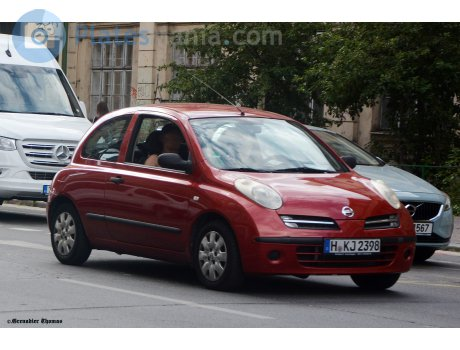License Plates: (331, 239, 376, 249)
